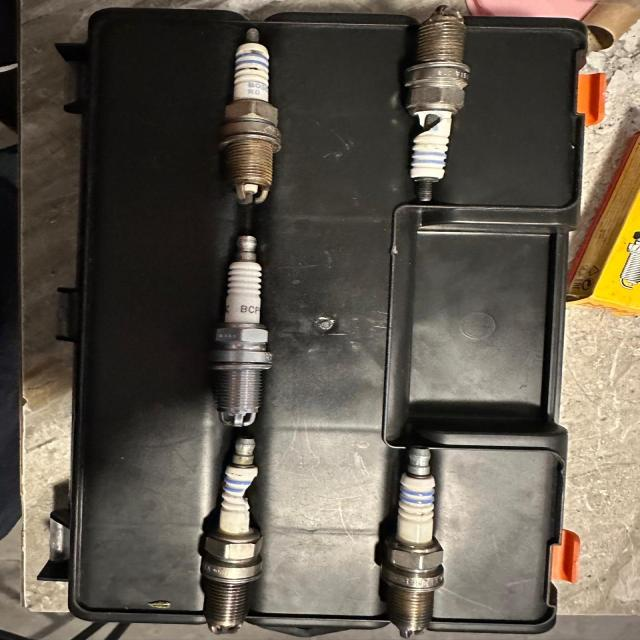damaged_spark-plug: (398, 0, 475, 198), (208, 430, 267, 636)
spark-plug: (367, 444, 462, 634), (212, 228, 274, 430), (218, 17, 282, 199)
